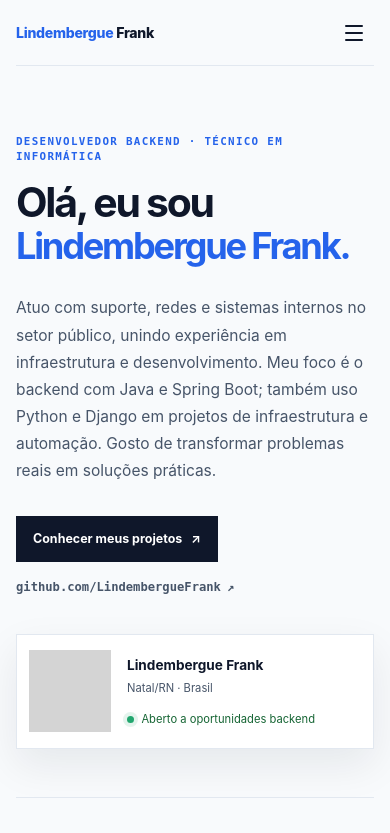
Scenario: Portfolio › opens the compact navigation
The image size is (390, 833).
Click the button named "abrir menu" at (354, 32), box [334,12,374,52]
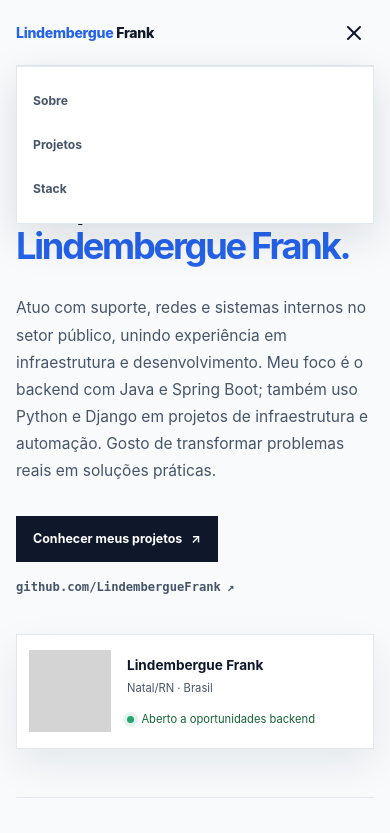
Expected: the button named "abrir menu" is expanded, [334,12,374,52]
